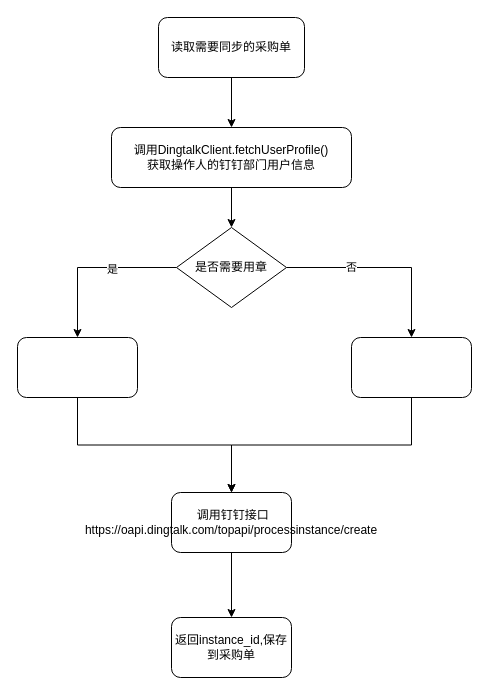
Image size: 489x695. Some labels were removed from this diagram. Here are the shapes that lost their labels. From the top down, the centre of each, then its label:
[77,367]: 使用 "喵要用章" 流程的process_code
[411,367]: 使用 "无合同类采购申请" 流程的process_code
